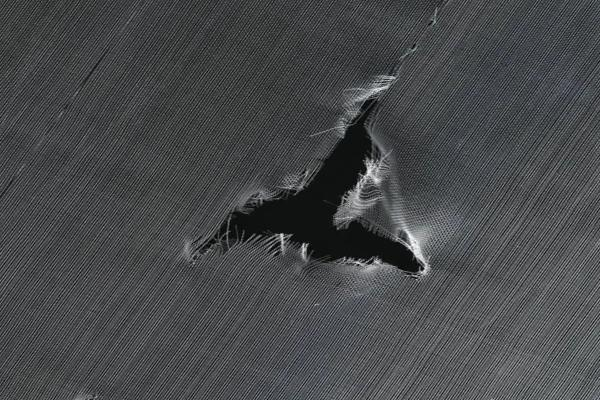hole: (181, 64, 437, 284)
